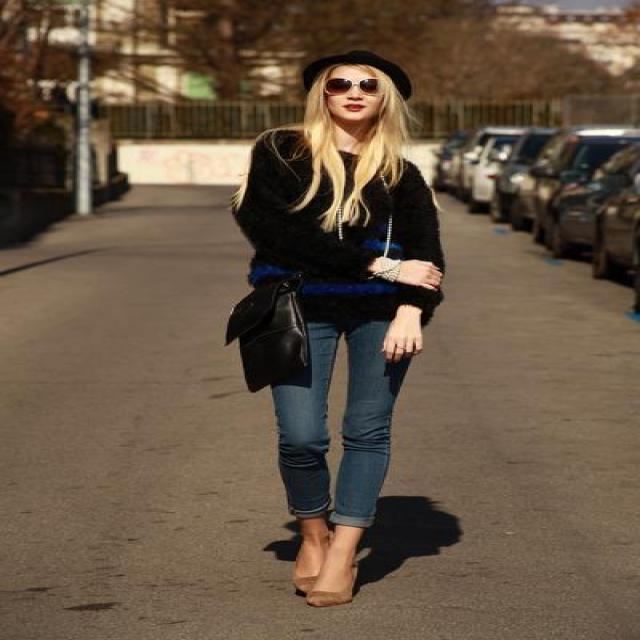bag: (226, 284, 310, 391)
hat: (292, 50, 410, 99)
jacket: (232, 130, 443, 339)
pants: (272, 320, 395, 524)
